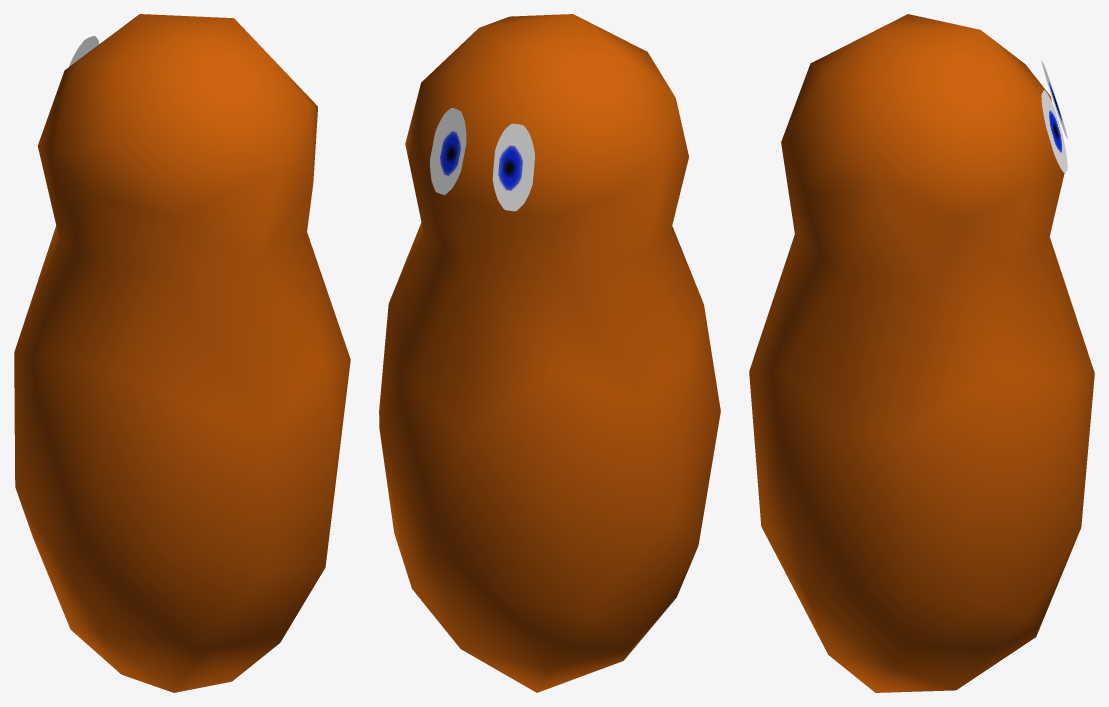
File: leafy.lod2.obj
The picture shows the model from 3 angles, left to right: view 1: azimuth 30°, elevation 25°; view 2: azimuth 150°, elevation 25°; view 3: azimuth 270°, elevation 25°; orthographic projection.
Parts seen in each view (by area): view 1: leafy; view 2: leafy; view 3: leafy.
Boxes of the visible parts, left/top/right/bottom form: leafy: left=14, top=14, right=350, bottom=692; leafy: left=379, top=14, right=720, bottom=692; leafy: left=749, top=14, right=1094, bottom=692.
Size of the model in its own units: 0.5701 by 1.21 by 0.5814.
